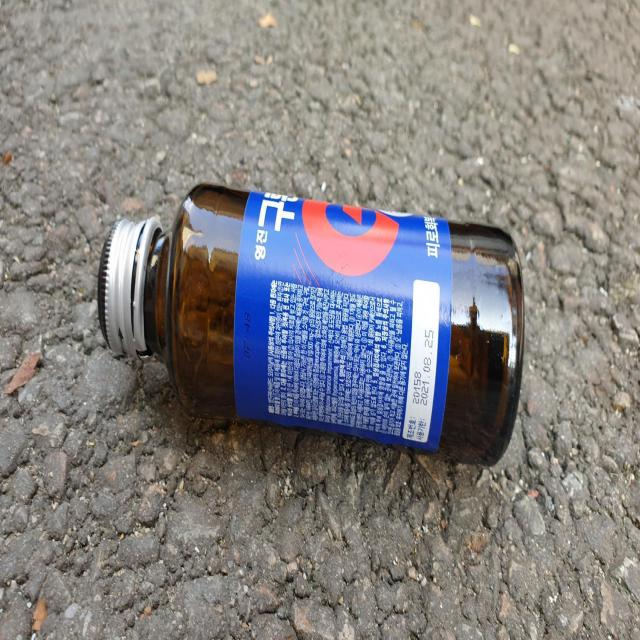glass: (98, 183, 525, 464)
